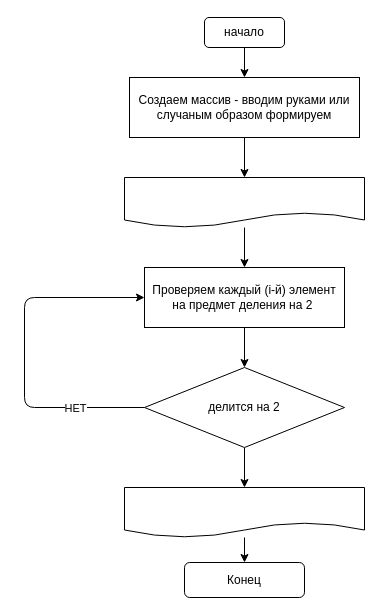
Some shapes in this 382 by 615 pixel diagram are drawn without their labels. The shapes that lost their labels are listed below. From the top down, each one's centre as x and y in pixels, then its label:
At (x=244, y=202): "Выводим имеющийся массив на Экран".
At (x=244, y=512): "Выводим значение на Экран".
